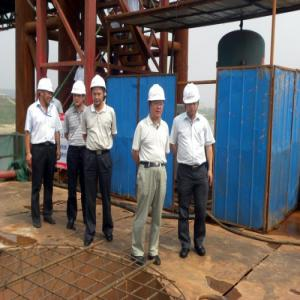white: (148, 84, 169, 120), (184, 81, 201, 116), (90, 76, 109, 105), (71, 80, 88, 109), (38, 78, 55, 105)
